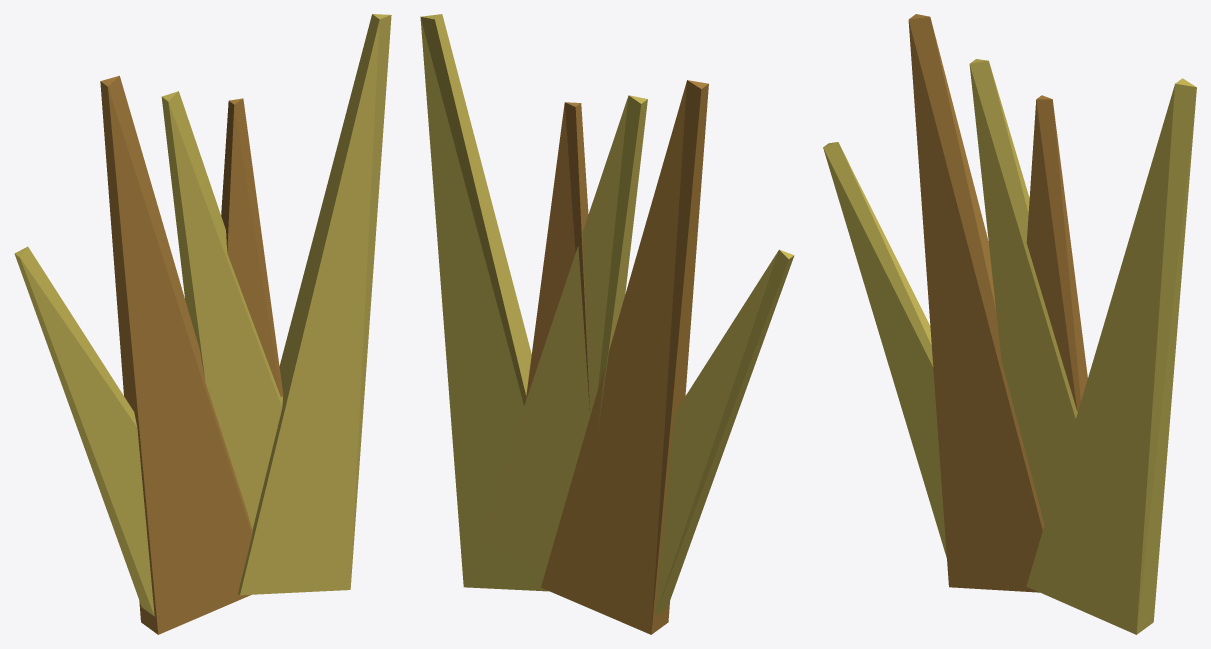
Rendered from Grass_1_Autumn_2_vc.fbx.
3 renders of one model, left to right at view 1: azimuth 30°, elevation 25°; view 2: azimuth 150°, elevation 25°; view 3: azimuth 330°, elevation 25°, orthographic.
Parts seen in each view (by area): view 1: Grass_1_Autumn_2_vc; view 2: Grass_1_Autumn_2_vc; view 3: Grass_1_Autumn_2_vc.
Boxes of the visible parts, left/top/right/bottom form: Grass_1_Autumn_2_vc: left=14, top=14, right=391, bottom=634; Grass_1_Autumn_2_vc: left=420, top=14, right=794, bottom=634; Grass_1_Autumn_2_vc: left=823, top=14, right=1196, bottom=634.
Size of the model in its own units: 0.6143 by 0.8784 by 0.0548.
